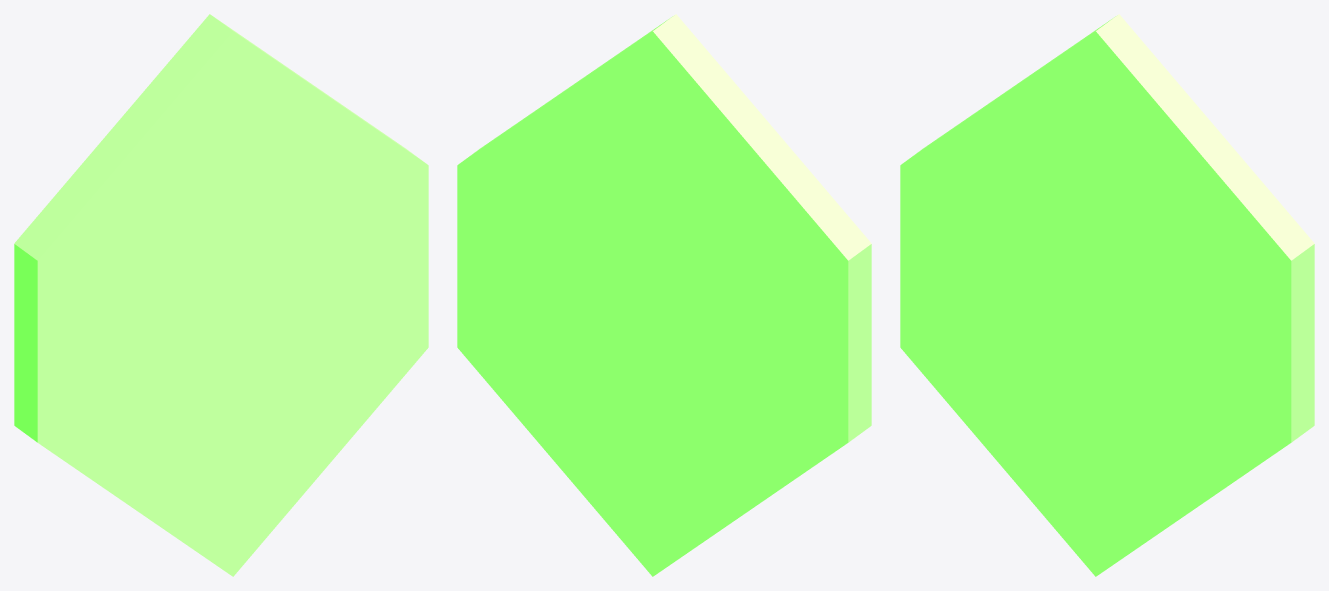
File: shield.fbx
3 renders of one model, left to right at view 1: azimuth 30°, elevation 25°; view 2: azimuth 150°, elevation 25°; view 3: azimuth 330°, elevation 25°, orthographic.
Visible parts, largest first — view 1: Plane; view 2: Plane; view 3: Plane.
Boxes of the visible parts, x1=… form: Plane: x1=14, y1=14, x2=428, y2=576; Plane: x1=457, y1=14, x2=871, y2=576; Plane: x1=900, y1=14, x2=1314, y2=576.
Size of the model in its own units: 75 by 100 by 7.81.
